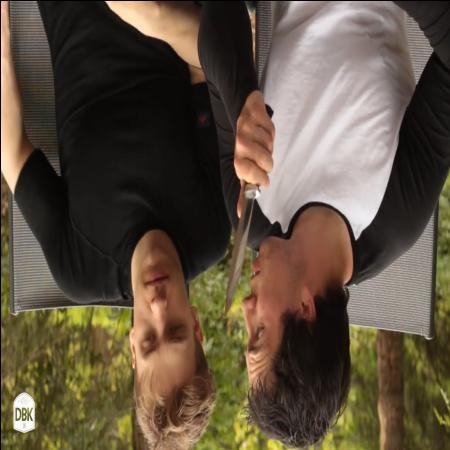long weapon: (219, 96, 278, 326)
